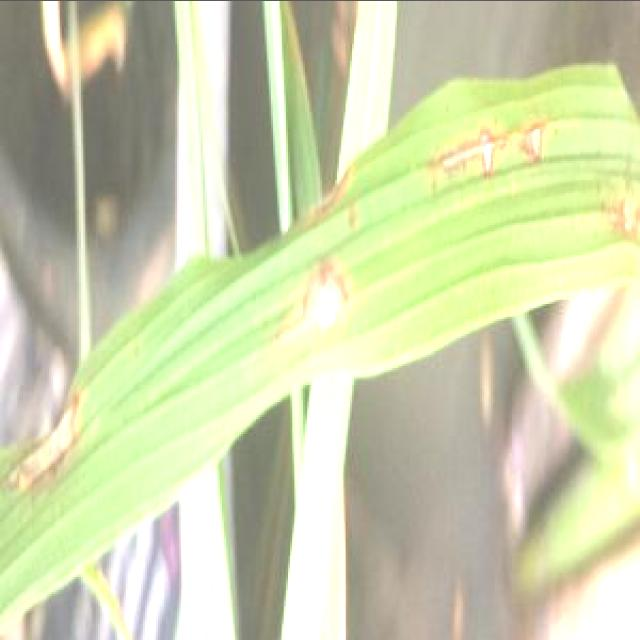Brown_Spot: (426, 109, 556, 184), (276, 255, 369, 358)
